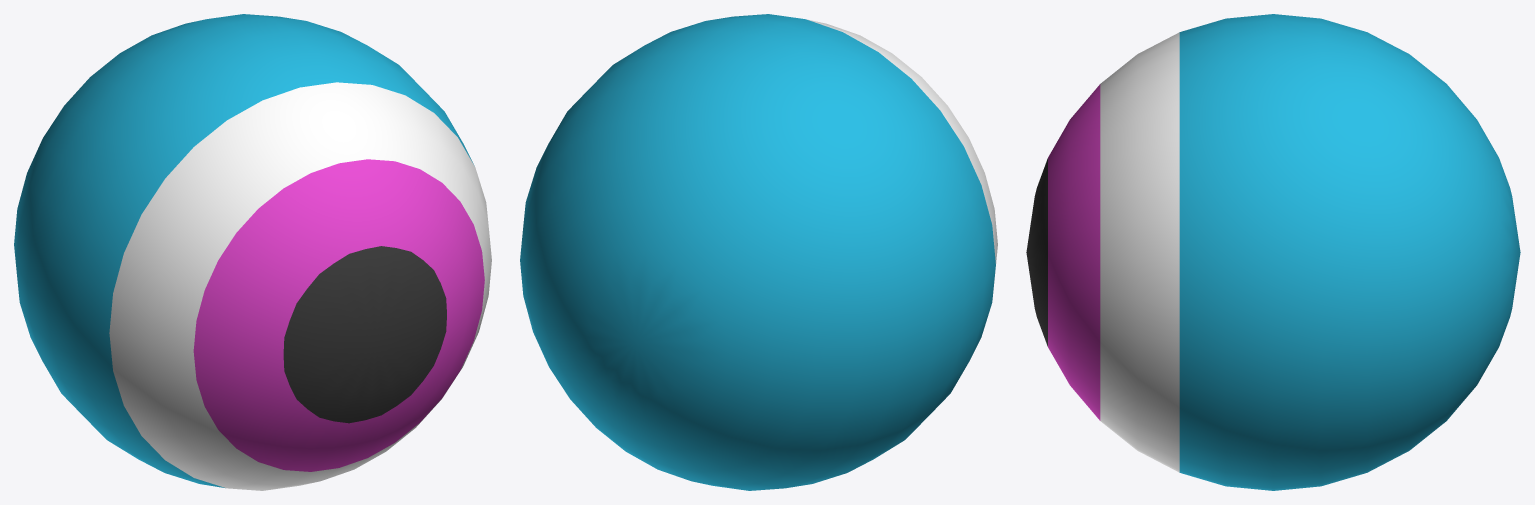
Rendered from Eye.fbx.
3 views of the same model, side by side, from view 1: azimuth 30°, elevation 25°; view 2: azimuth 150°, elevation 25°; view 3: azimuth 270°, elevation 25° (orthographic).
Visible parts, largest first — view 1: Sphere; view 2: Sphere; view 3: Sphere.
Boxes of the visible parts, <box> form: Sphere: <box>14,14,491,490</box>; Sphere: <box>520,14,997,490</box>; Sphere: <box>1026,14,1520,490</box>.
Size of the model in its own units: 475 by 475 by 492.
